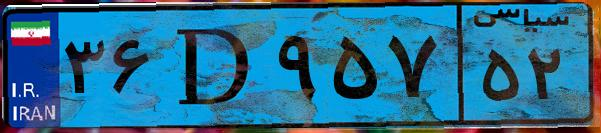2: (525, 38, 570, 115)
3: (57, 26, 110, 100)
5: (330, 28, 385, 110), (475, 38, 525, 113)
6: (110, 28, 158, 98)
7: (385, 28, 445, 110)
9: (270, 28, 330, 110)
D: (158, 12, 270, 120)
